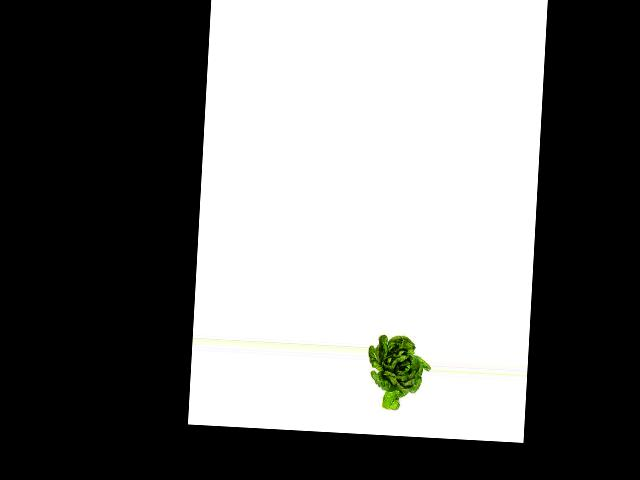lettuce: (367, 332, 432, 414)
